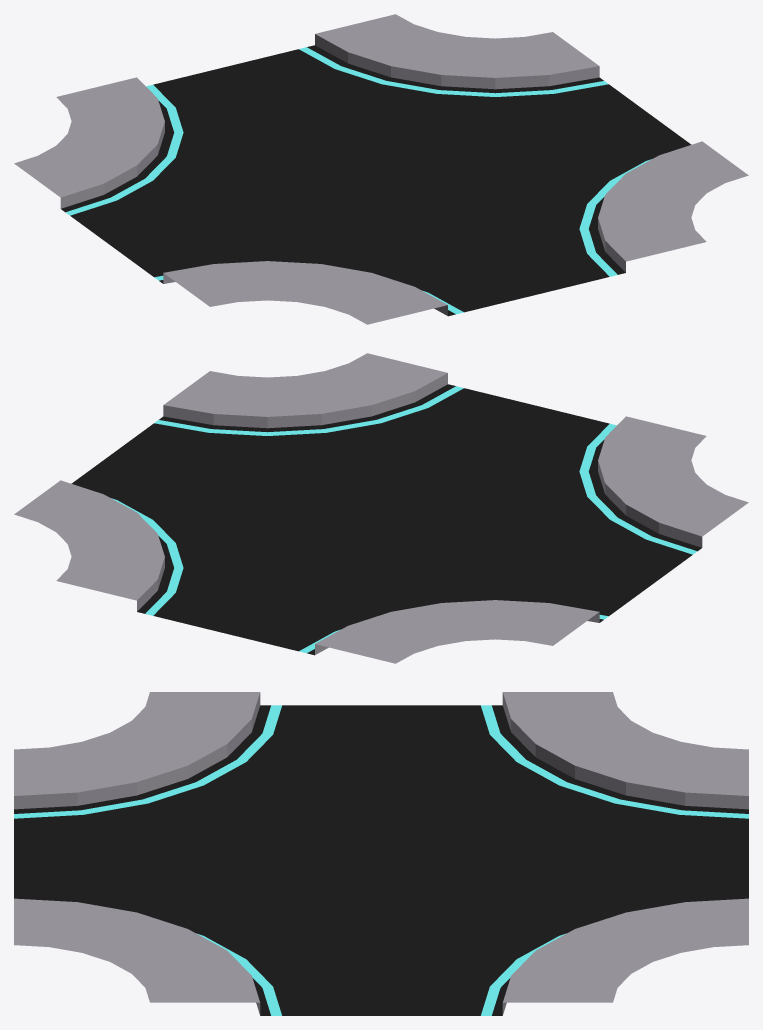
File: 1-via-cruce-doble-3m.fbx
3 renders of one model, top to bottom at view 1: azimuth 30°, elevation 25°; view 2: azimuth 150°, elevation 25°; view 3: azimuth 270°, elevation 25°, orthographic. The views are drawn at different scales.
Parts seen in each view (by area): view 1: Model; view 2: Model; view 3: Model.
Boxes of the visible parts, box(x1,y1,x2,y2) form: Model: box(14, 14, 748, 324); Model: box(14, 353, 748, 663); Model: box(14, 692, 748, 1015).
Size of the model in its own units: 10 by 0.2 by 10.
